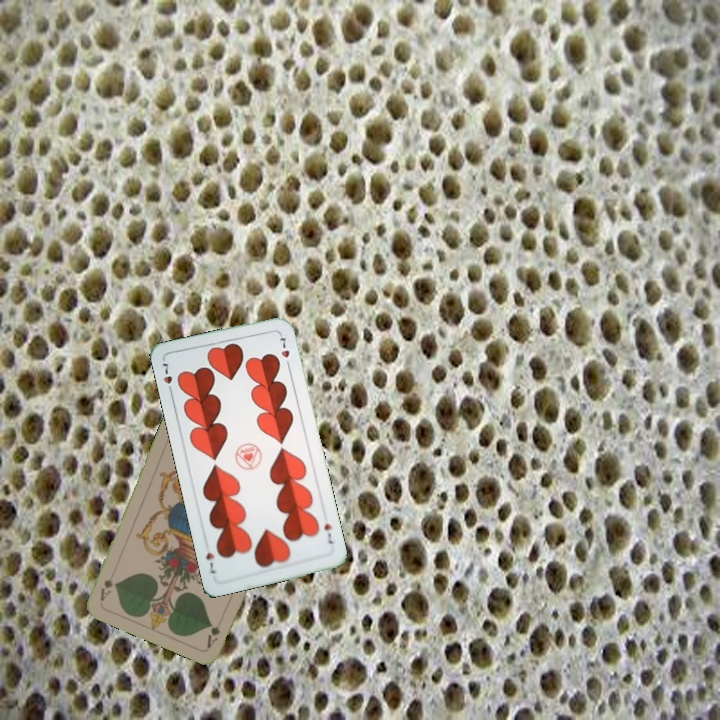GA: (203, 611, 226, 650)
H7: (158, 359, 175, 397), (320, 519, 336, 546)
